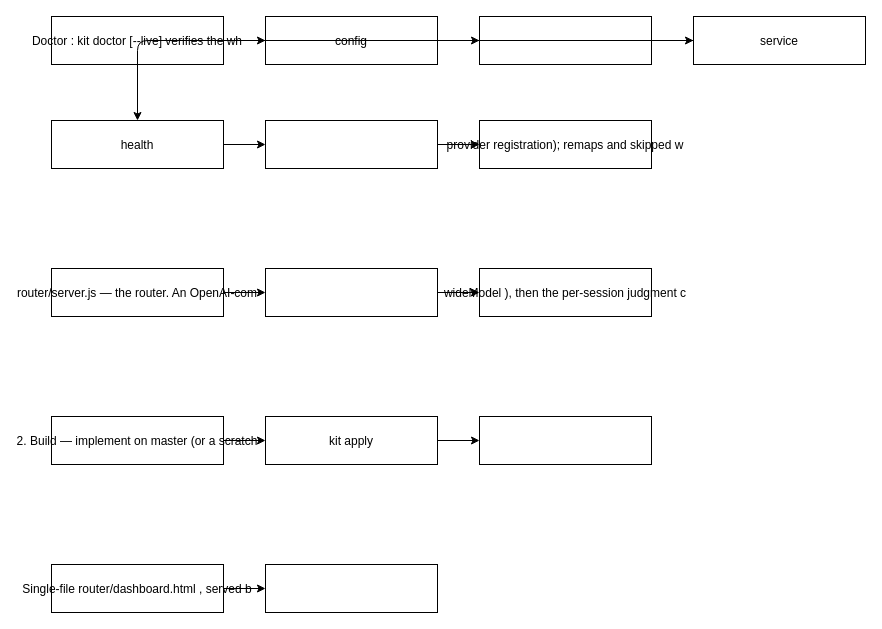
The diagram is 882 pixels wide and 629 high, and some of its shapes have lost their labels. The shapes that lost their labels are listed below. From the top down, each one's box as (x1, y1, x2, y2) in pixels, then its label:
(478, 16, 652, 64): runtime
(264, 120, 438, 168): tier resolution
(264, 268, 438, 316): omniModel , width
(478, 416, 652, 464): kit doctor
(264, 564, 438, 612): kit apply), suggestions ( /api/suggest ranks
